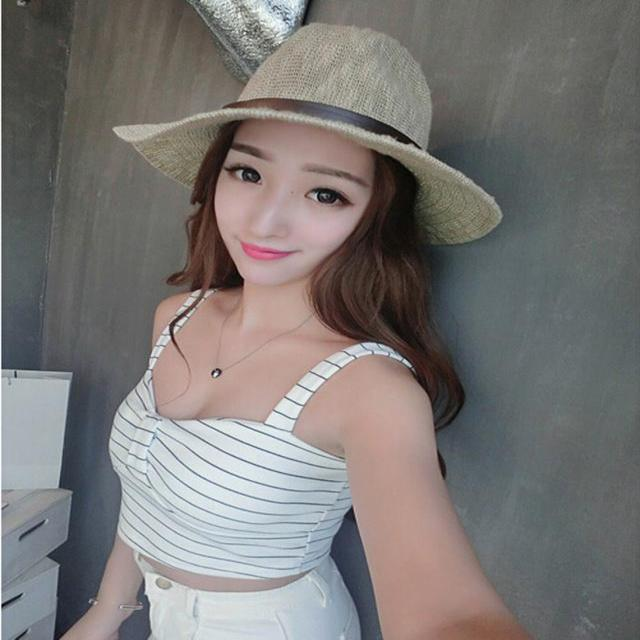sling: (109, 287, 422, 580)
